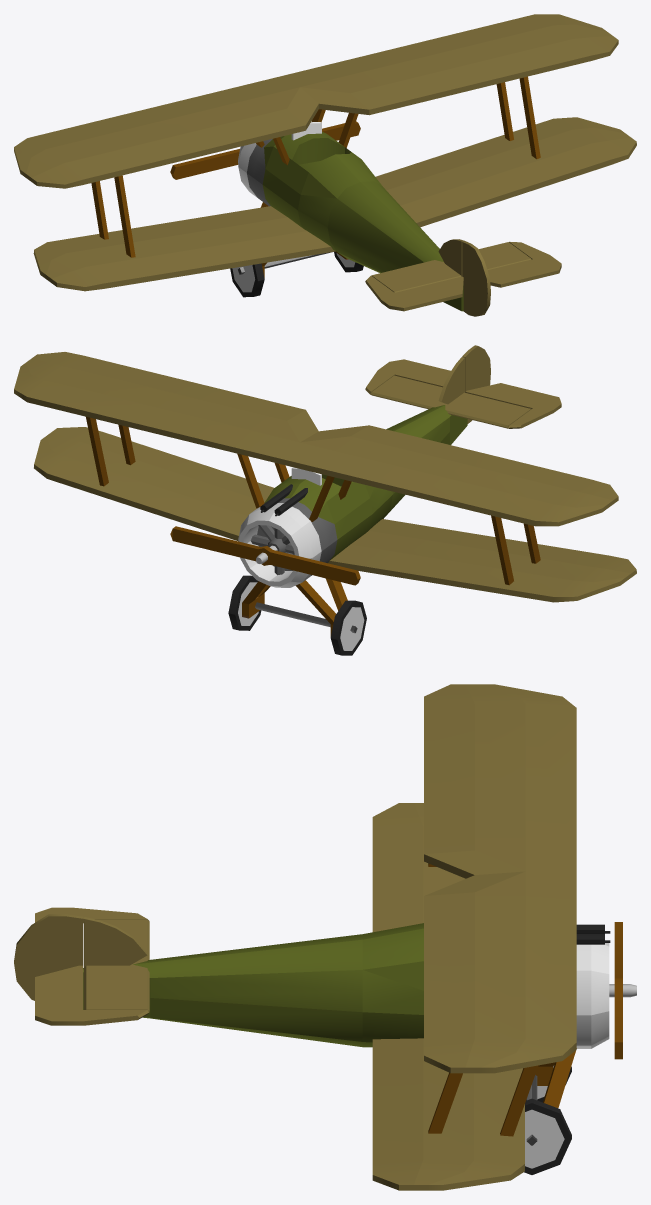
File: sopwith_camel.fbx
The picture shows the model from 3 angles, top to bottom: view 1: azimuth 30°, elevation 25°; view 2: azimuth 150°, elevation 25°; view 3: azimuth 270°, elevation 25°; orthographic projection. The views are drawn at different scales.
Visible parts, largest first — view 1: Sopwith_Camel; view 2: Sopwith_Camel; view 3: Sopwith_Camel.
Part boxes in pixels (<box>): Sopwith_Camel: <box>14,14,636,316</box>; Sopwith_Camel: <box>14,345,636,655</box>; Sopwith_Camel: <box>14,684,636,1190</box>.
Bounding box in the file's own units: 853 × 586 × 278.
